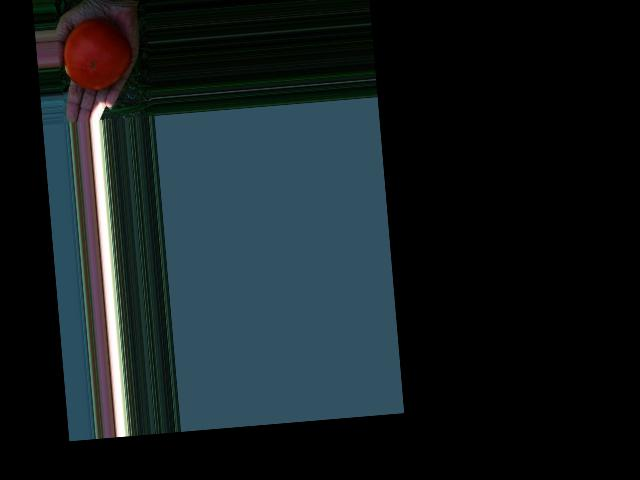tomato: (61, 16, 135, 92)
